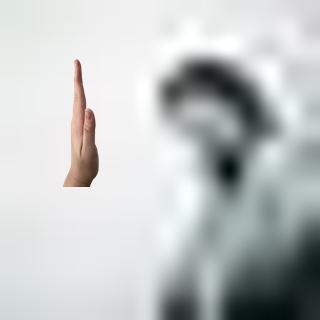Right: (62, 53, 109, 181)
